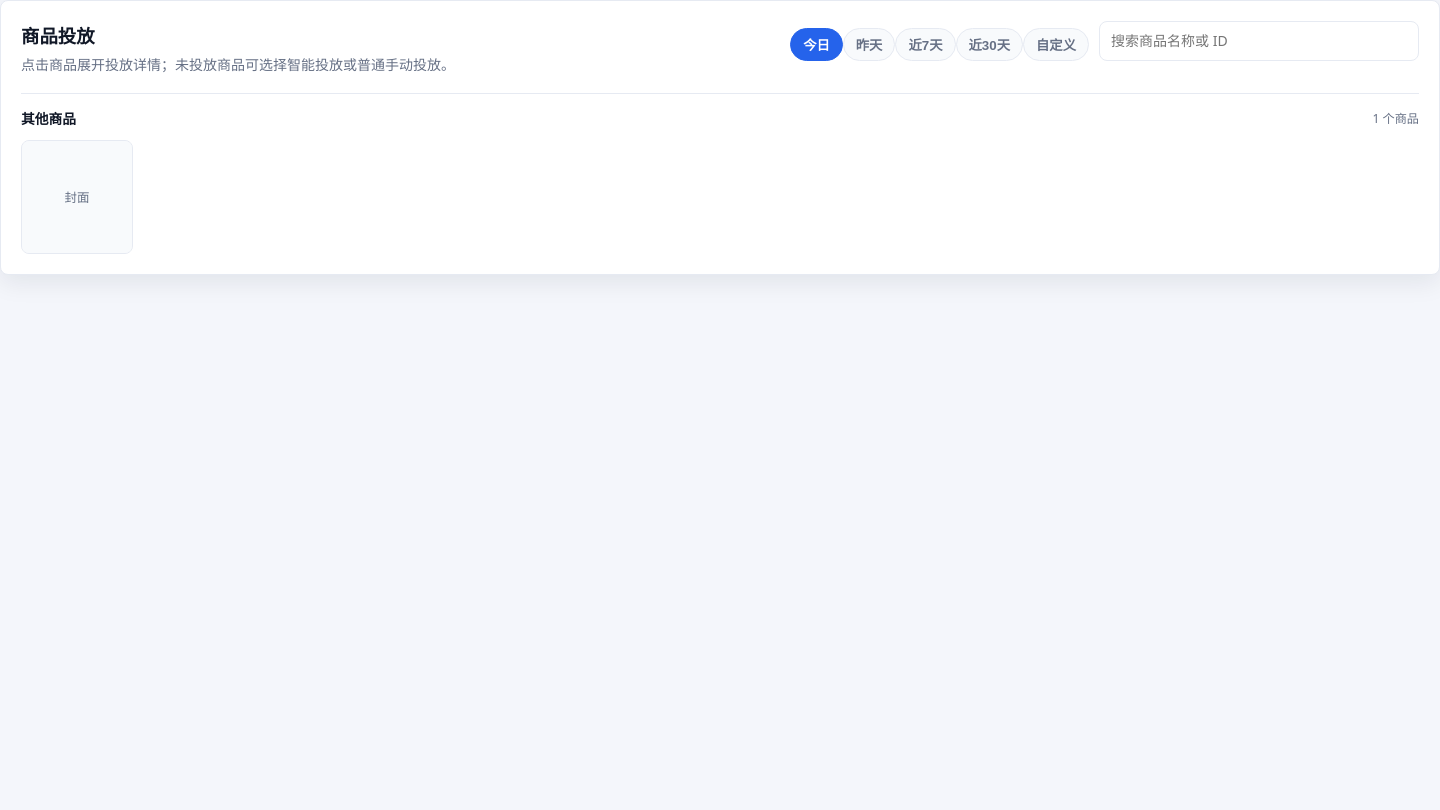
ProductAutomationPanel campaign creation result › keeps the create success result when the follow-up page refresh fails
The image size is (1440, 810).
Click the button with aria-label "展开商品 测试商品": (77, 197) x1=22 y1=141 x2=132 y2=253
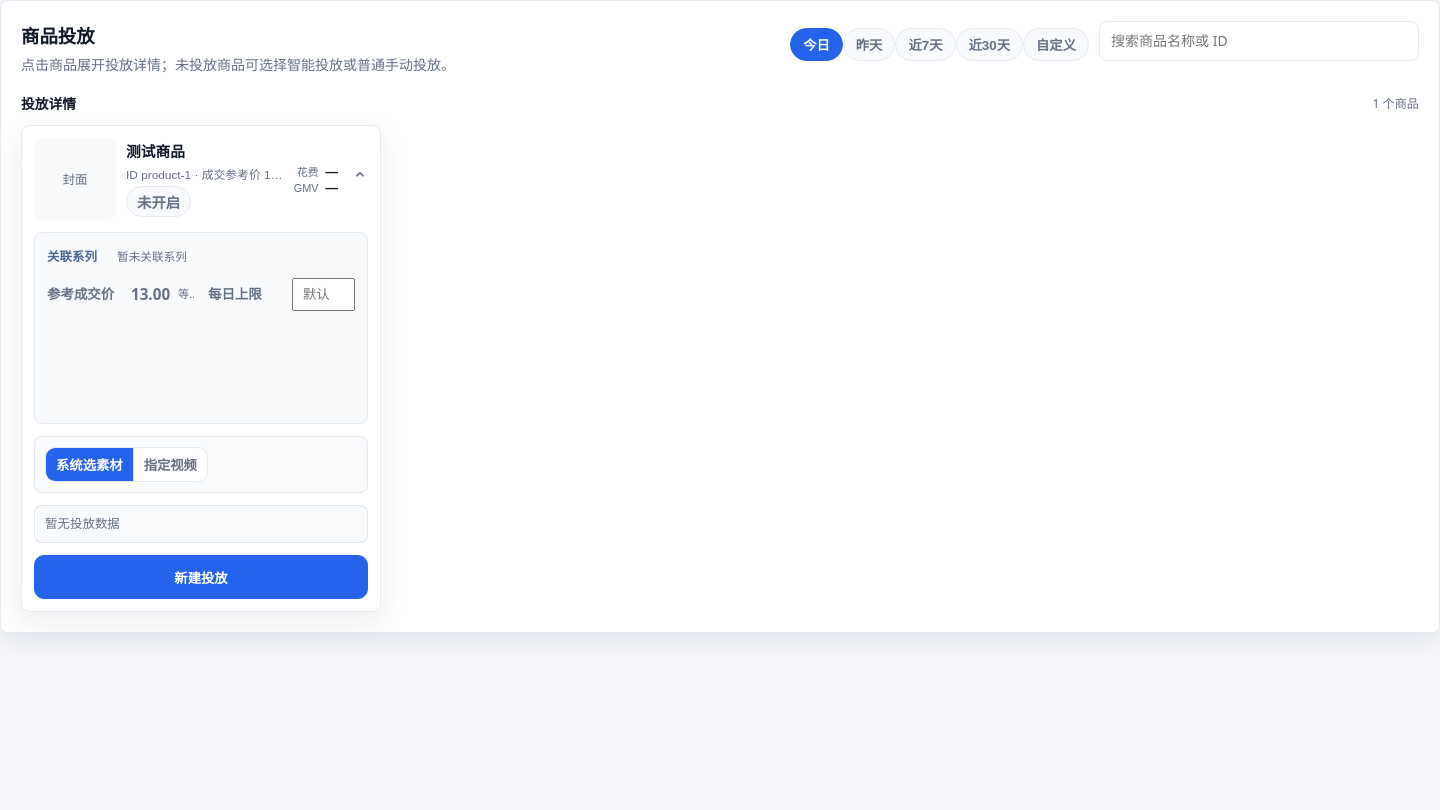
Click the button "新建投放": (201, 577) x1=34 y1=555 x2=368 y2=599
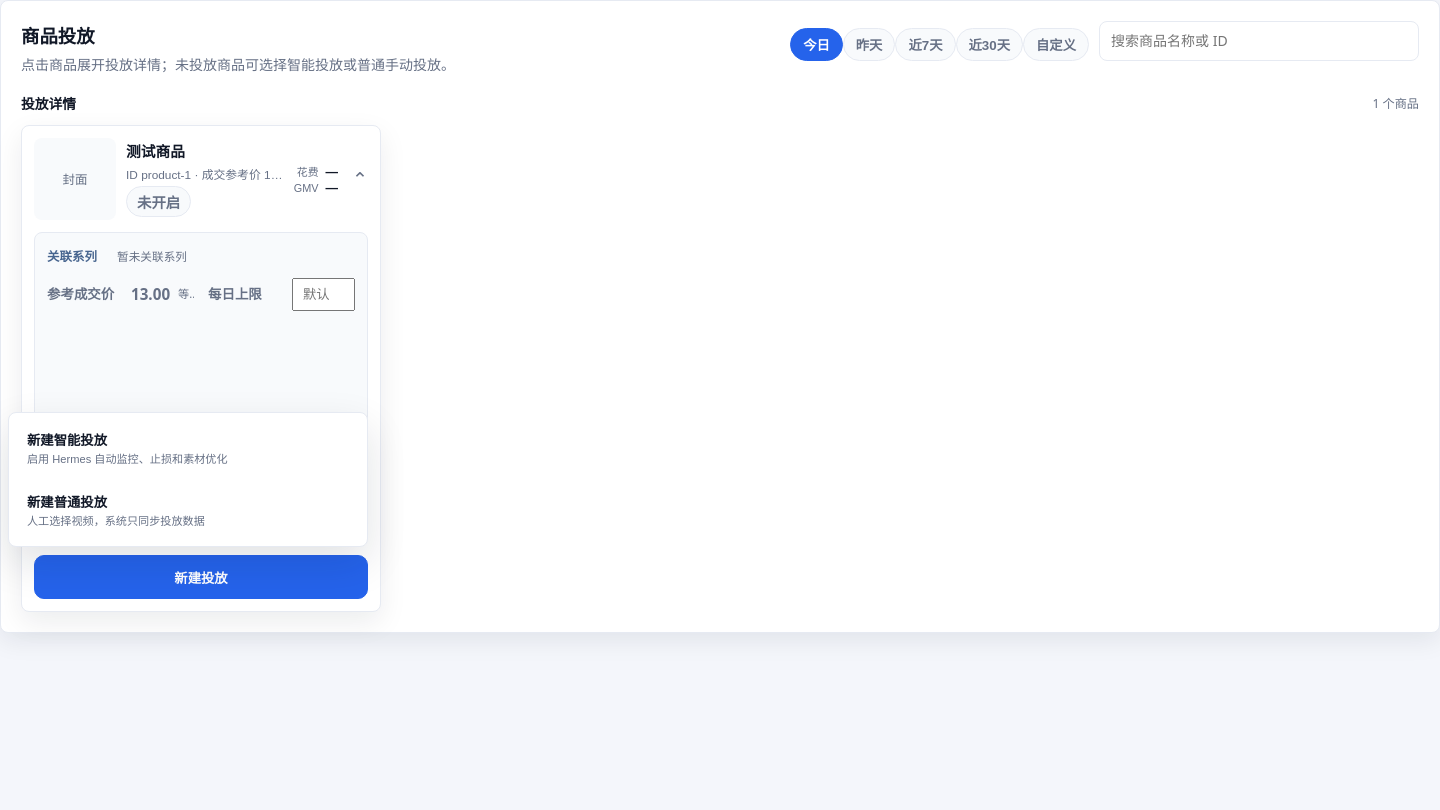
Click the button "新建智能投放 启用 Hermes 自动监控、止损和素材优化": (67, 441) x1=16 y1=420 x2=360 y2=477
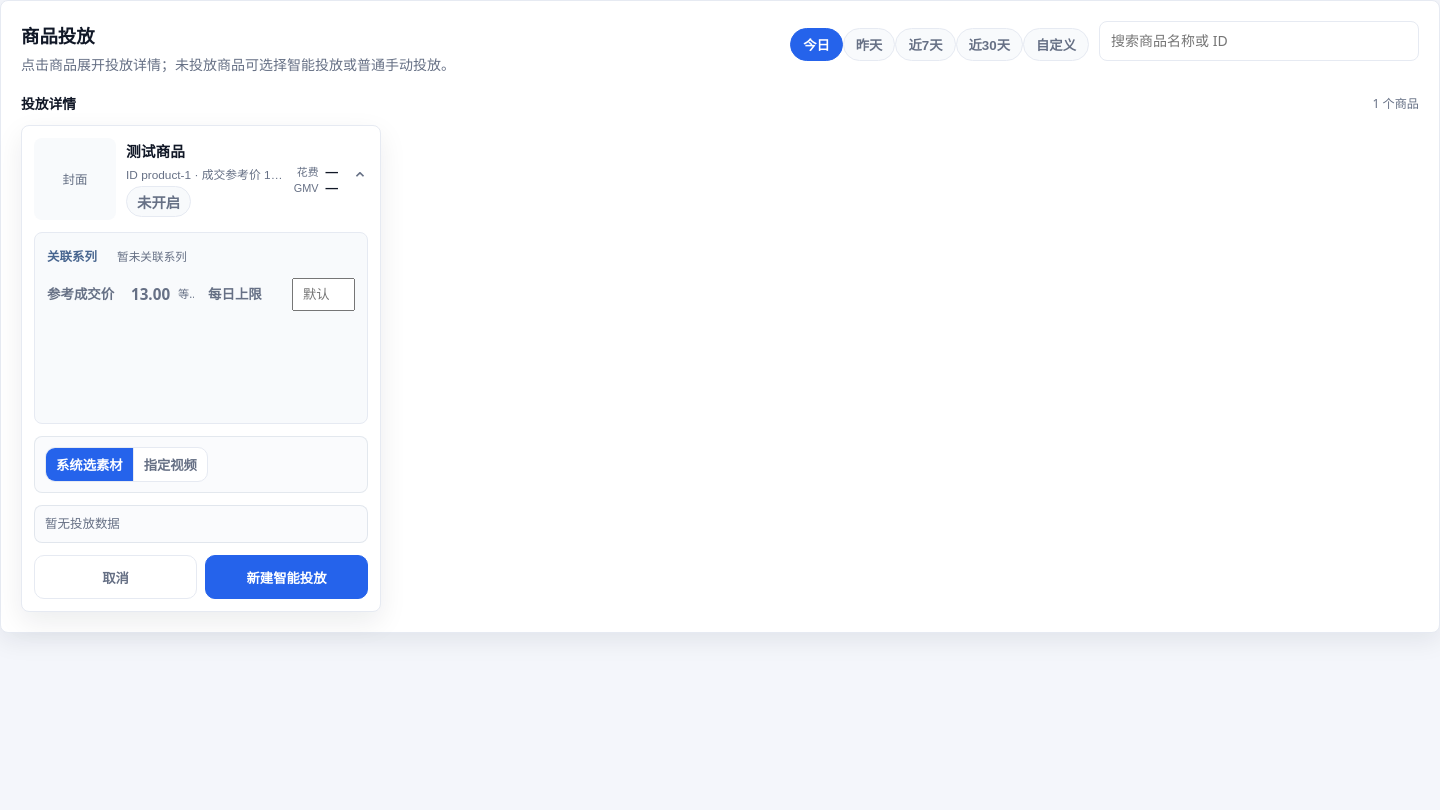
Click the button "新建智能投放": (286, 577) x1=205 y1=555 x2=368 y2=599
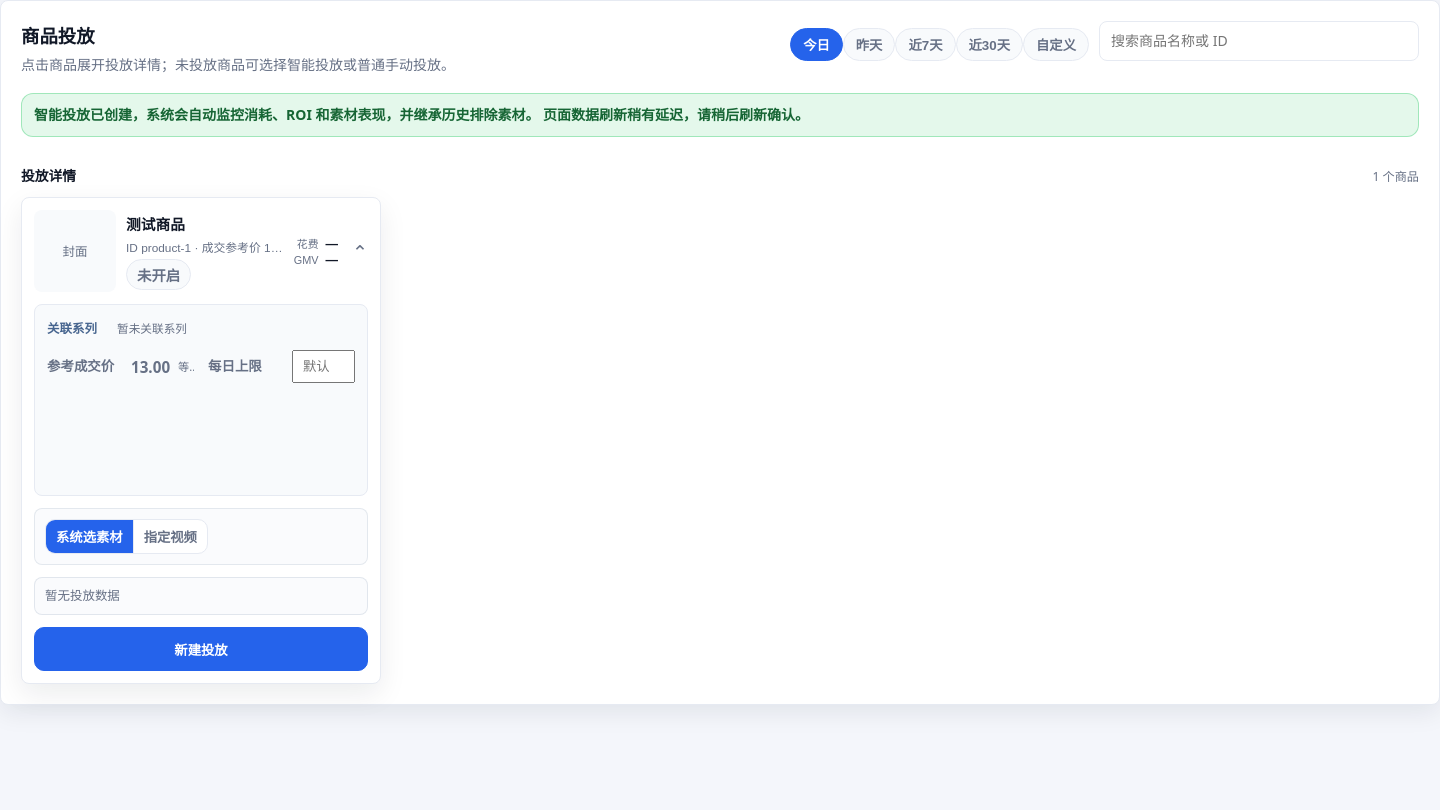
Expected: the text "智能投放已创建，系统会自动监控消耗、ROI 和素材表现，并继承历史排除素材。 页面数据刷新稍有延迟，请稍后刷新确认。" is shown, x1=21 y1=93 x2=1419 y2=137
